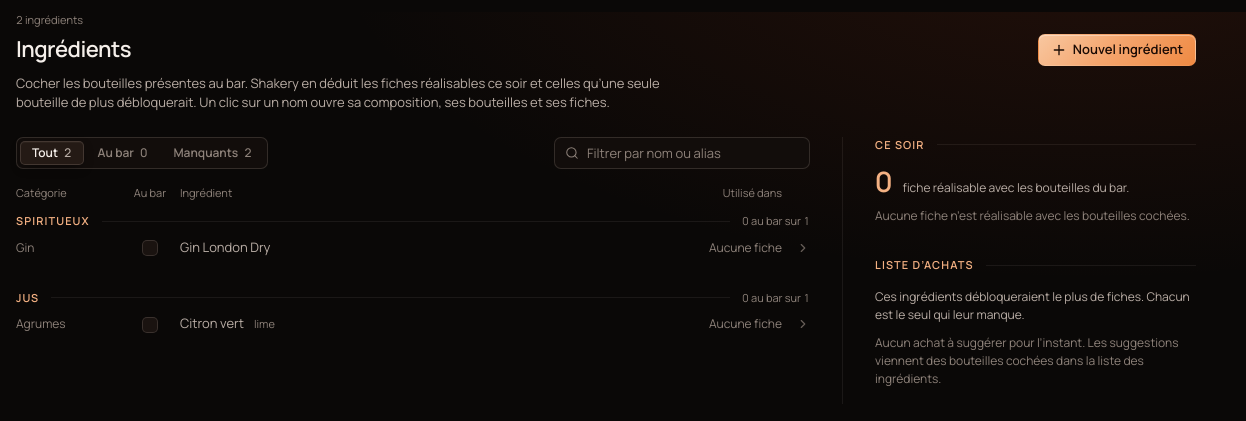
it: BarPage › groups ingredients by category and filters by name or alias
The width and height of the screenshot is (1246, 421).
expect the button "Gin London Dry" is shown: met, box [180,238,270,257]
expect the button "Citron vert" is shown: met, box [180,314,244,334]
In the search field named "Filtrer les ingrédients": (693, 152) [587,138,799,168], type "lime"
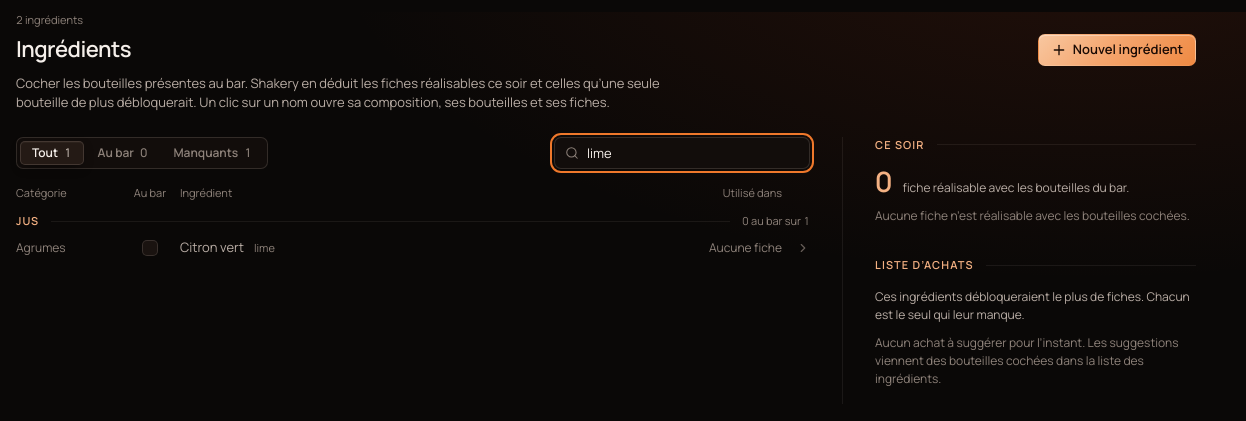
expect the button "Citron vert" is shown: met, box [180,238,244,257]
expect the button "Gin London Dry" is gone: met
Replace the text in the search field named "Filtrer les ingrédients" with "zzz": (693, 152) [587,138,799,168]
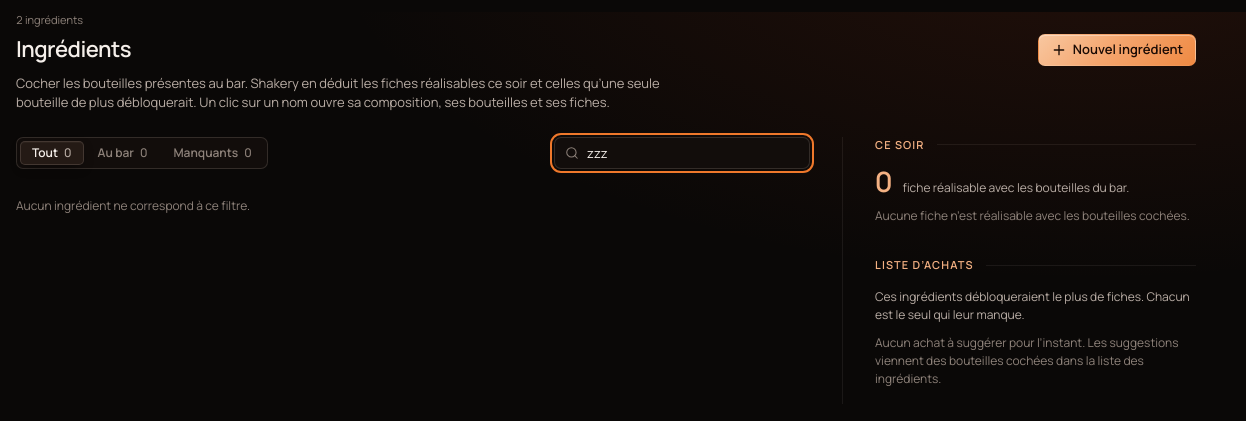
expect the text "Aucun ingrédient ne correspond à ce filtre." is shown: met, box [16,196,250,214]
